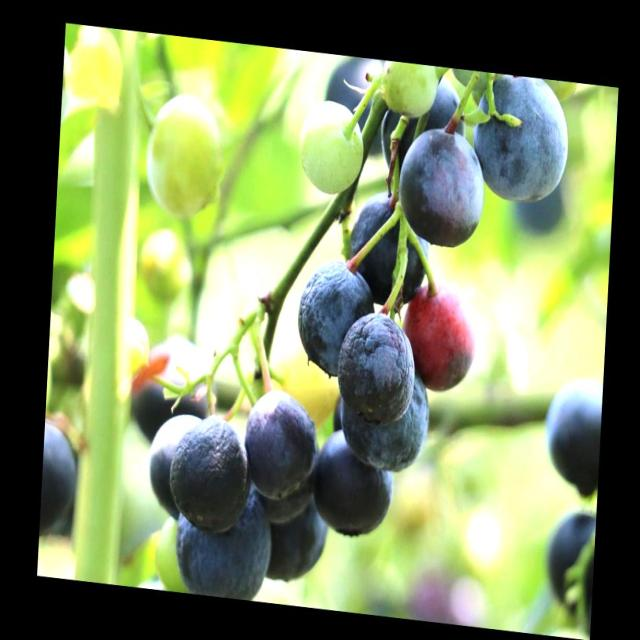blueberry: (473, 72, 573, 203), (171, 484, 273, 602), (398, 129, 489, 245), (342, 187, 434, 300), (167, 413, 252, 531), (332, 311, 417, 425), (294, 258, 373, 380), (308, 431, 398, 538), (330, 370, 431, 464), (241, 388, 315, 496), (542, 376, 602, 484)
blueberry-halfripe: (399, 270, 483, 394)
blueberry-unripe: (143, 91, 224, 223), (298, 95, 366, 194), (378, 59, 438, 118)
